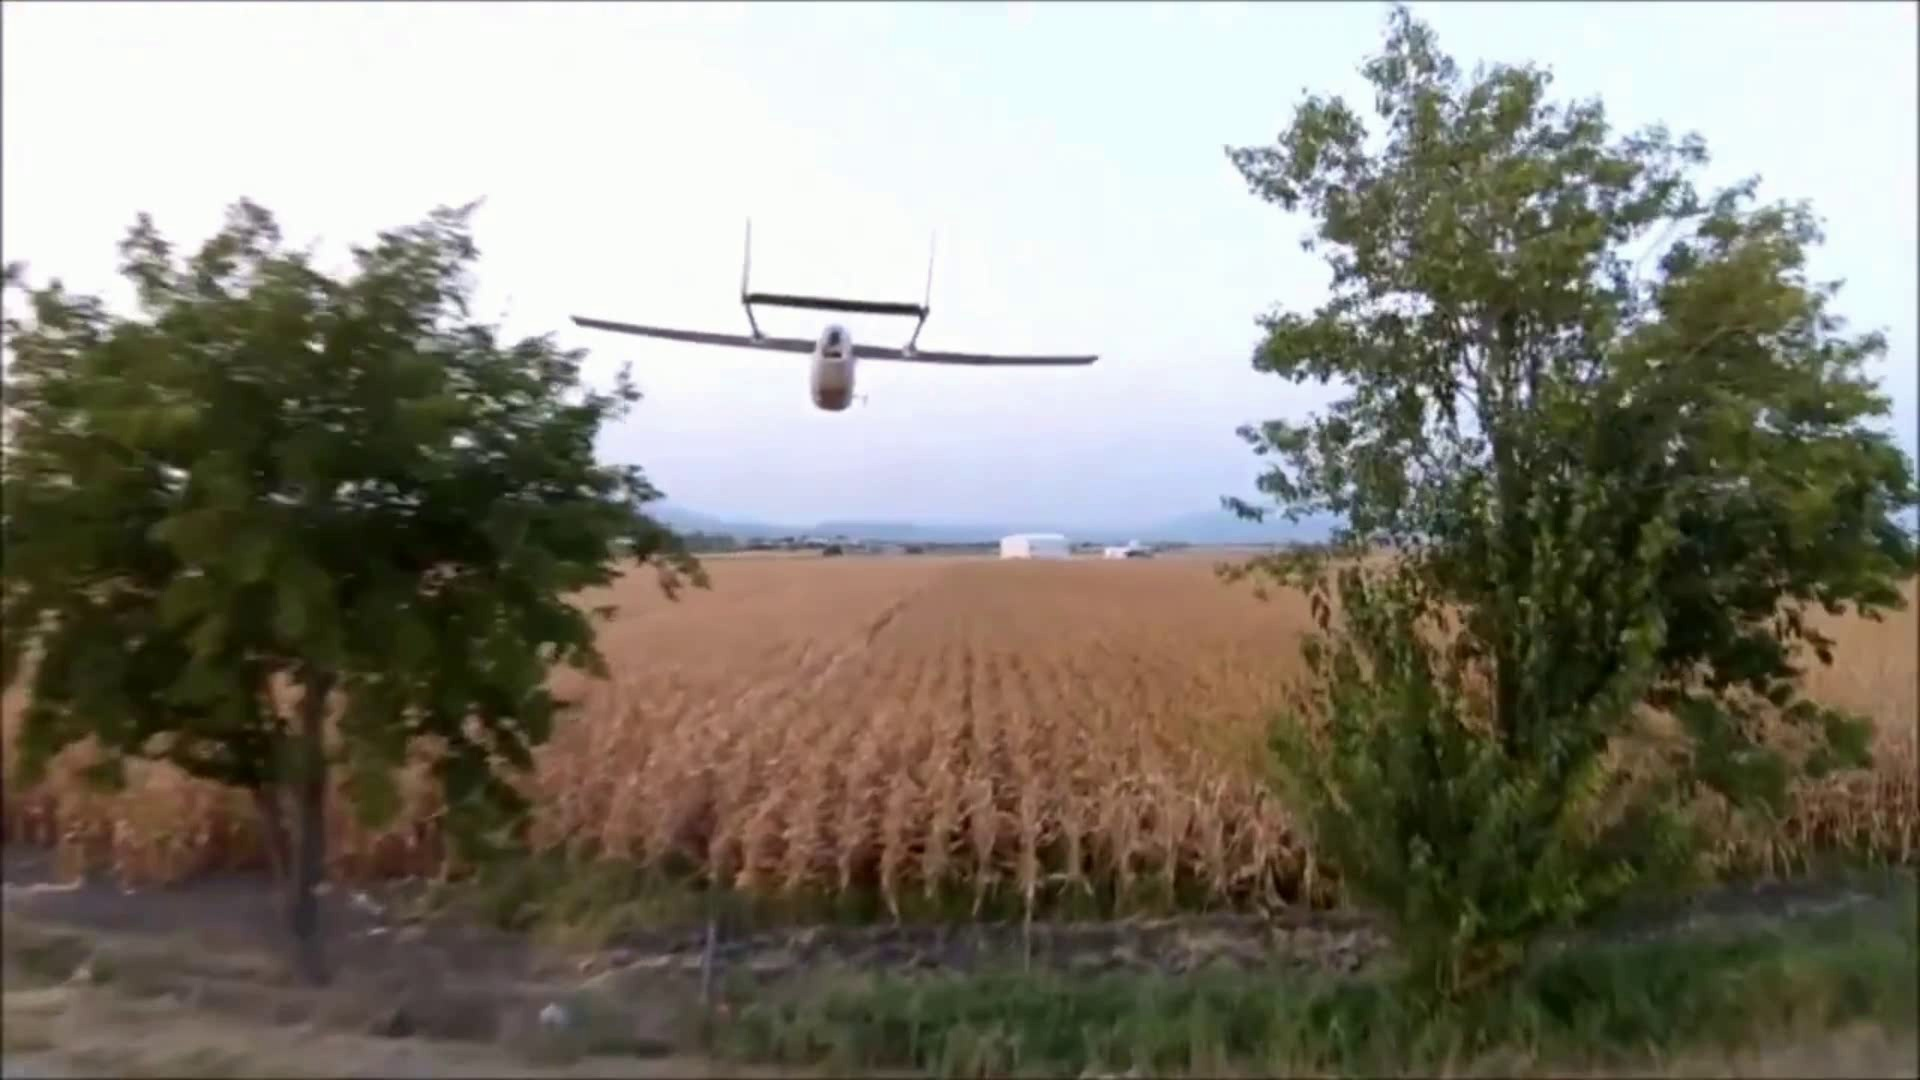airplane: (569, 213, 1101, 411)
